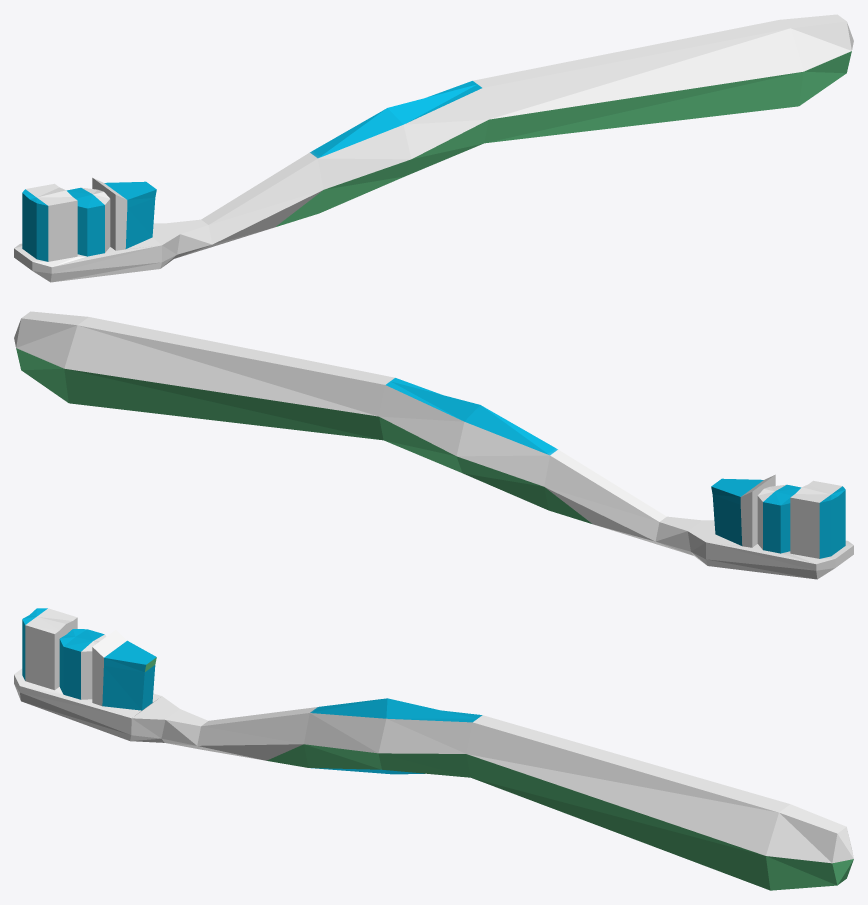
The model's file is CKToothbrush.dae.
3 views of the same model, one above another, from view 1: azimuth 30°, elevation 25°; view 2: azimuth 150°, elevation 25°; view 3: azimuth 330°, elevation 25° (orthographic).
Visible parts, largest first — view 1: Cylinder_006; view 2: Cylinder_006; view 3: Cylinder_006.
Boxes of the visible parts, x1=… form: Cylinder_006: x1=14, y1=14, x2=853, y2=282; Cylinder_006: x1=14, y1=311, x2=853, y2=579; Cylinder_006: x1=14, y1=608, x2=853, y2=890.
Bounding box in the file's own units: 4.06 × 0.3202 × 0.4479.
3 materials, 3 textured.
